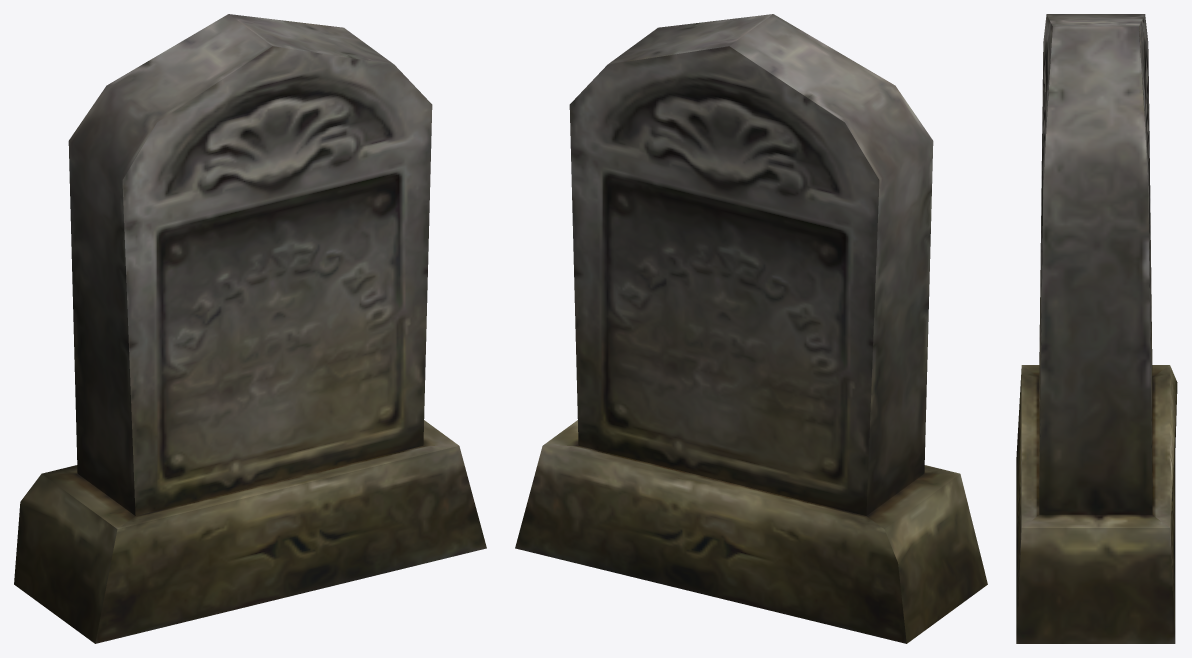
Rendered from DN_1_4_mubei.FBX.
3 renders of one model, left to right at view 1: azimuth 30°, elevation 25°; view 2: azimuth 150°, elevation 25°; view 3: azimuth 270°, elevation 25°, orthographic. The views are drawn at different scales.
Visible parts, largest first — view 1: DN_1_4_mubei; view 2: DN_1_4_mubei; view 3: DN_1_4_mubei.
Boxes of the visible parts, x1,y1,x2,y2 form: DN_1_4_mubei: (14,14,486,643); DN_1_4_mubei: (515,14,987,643); DN_1_4_mubei: (1016,14,1177,643).
Bounding box in the file's own units: 23.51 × 30.76 × 8.57.
